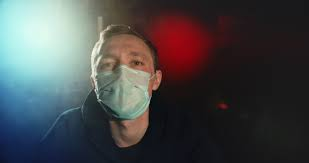mask: (94, 65, 151, 118)
